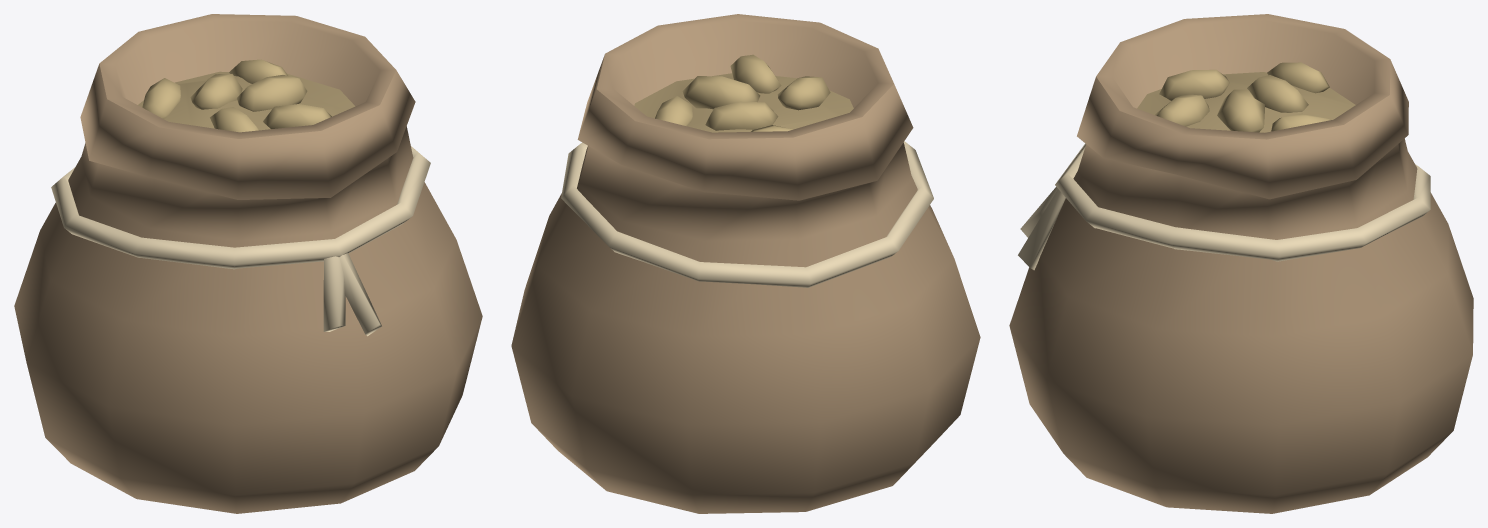
Rendered from rpgpp_ag_sack_open_02b.fbx.
3 views of the same model, side by side, from view 1: azimuth 30°, elevation 25°; view 2: azimuth 150°, elevation 25°; view 3: azimuth 270°, elevation 25° (orthographic).
Visible parts, largest first — view 1: rpgpp_ag_sack_open_02b; view 2: rpgpp_ag_sack_open_02b; view 3: rpgpp_ag_sack_open_02b.
Boxes of the visible parts, x1=… form: rpgpp_ag_sack_open_02b: x1=14, y1=14, x2=482, y2=513; rpgpp_ag_sack_open_02b: x1=511, y1=14, x2=980, y2=513; rpgpp_ag_sack_open_02b: x1=1009, y1=14, x2=1473, y2=513.
Size of the model in its own units: 1.32 by 1.11 by 1.3.
